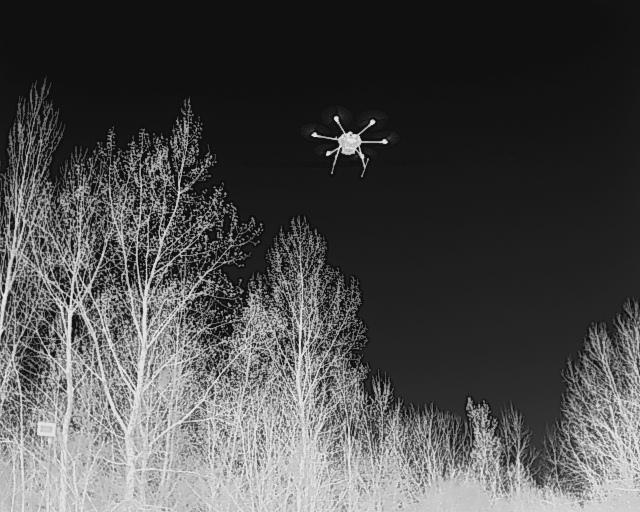drone: (296, 100, 404, 186)
